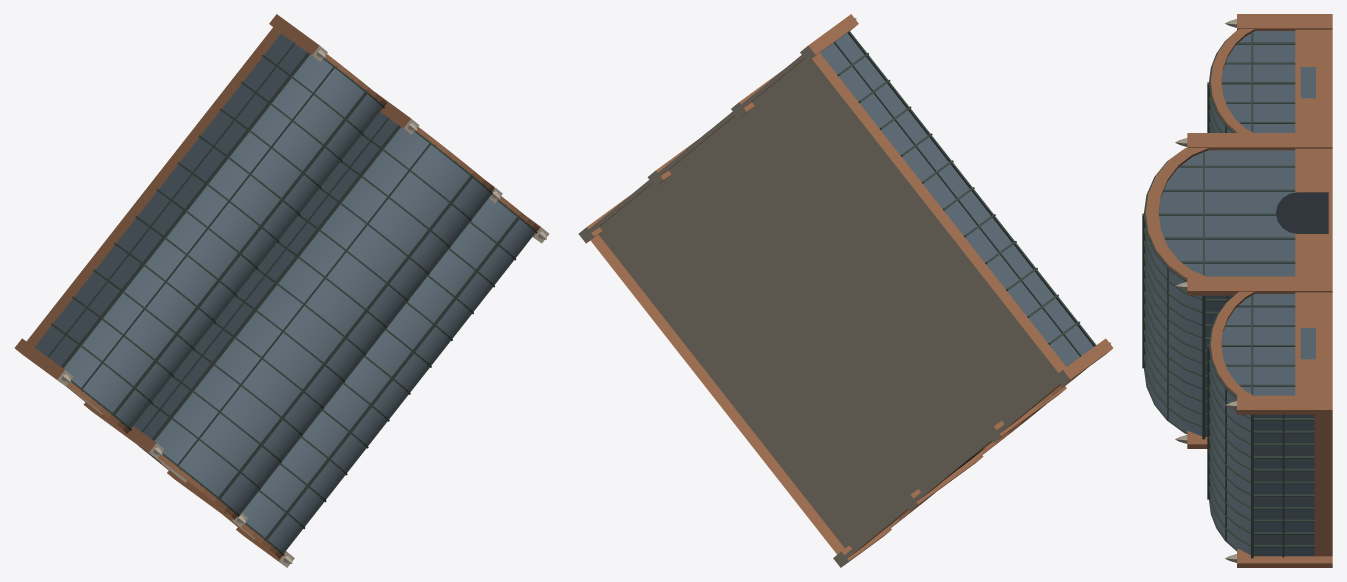
File: hivernacle.glb
3 renders of one model, left to right at view 1: azimuth 30°, elevation 25°; view 2: azimuth 150°, elevation 25°; view 3: azimuth 270°, elevation 25°, orthographic. The views are drawn at different scales.
Visible parts, largest first — view 1: hivernacle; view 2: hivernacle; view 3: hivernacle.
Part boxes in pixels (bbox=[...]): hivernacle: bbox=[14, 14, 549, 567]; hivernacle: bbox=[578, 14, 1113, 567]; hivernacle: bbox=[1142, 14, 1332, 567].
Size of the model in its own units: 45.56 by 45.52 by 13.74.
